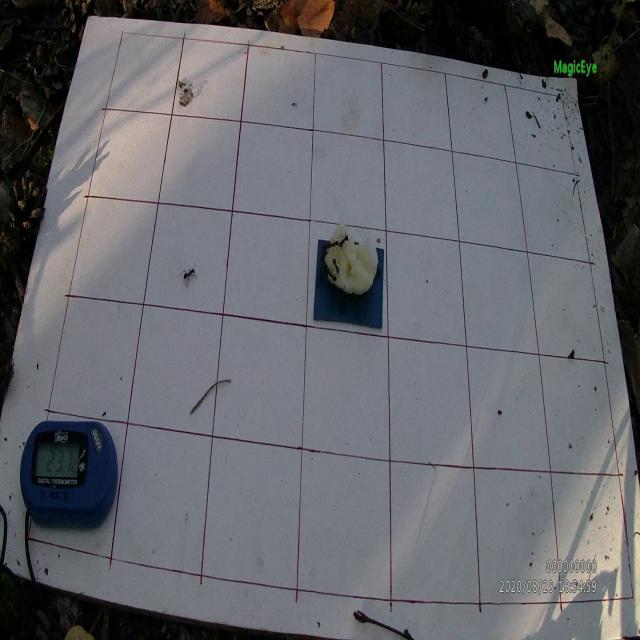Ant: (178, 263, 196, 287), (339, 232, 351, 251), (327, 238, 339, 256), (328, 264, 337, 284), (332, 258, 340, 274)
